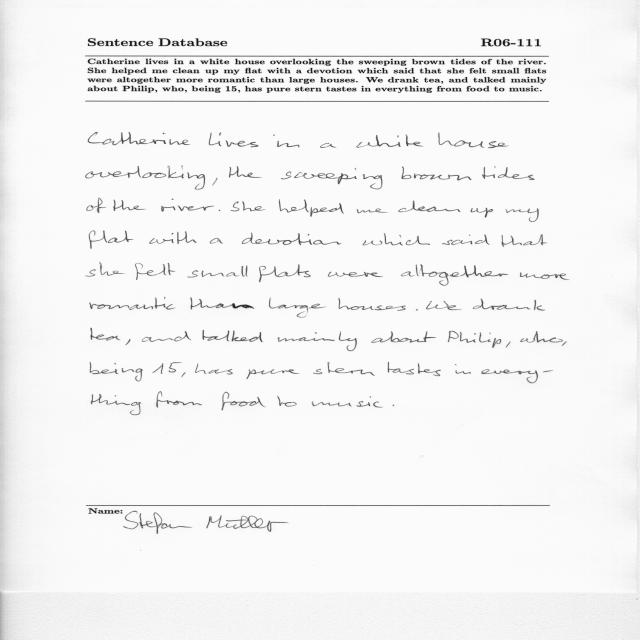word: (86, 166, 218, 190), (401, 264, 508, 286), (281, 168, 382, 189), (277, 332, 357, 352), (88, 133, 190, 146), (278, 199, 344, 217), (242, 233, 341, 245), (269, 298, 326, 318), (90, 297, 175, 310), (90, 362, 143, 382), (438, 133, 508, 148), (402, 166, 472, 181), (92, 394, 142, 415), (481, 369, 553, 383), (259, 265, 311, 283), (448, 331, 501, 348), (338, 298, 406, 311), (357, 135, 424, 148), (313, 362, 375, 376), (473, 299, 545, 311), (222, 392, 266, 411), (190, 297, 254, 310), (363, 234, 430, 246), (90, 231, 134, 249), (311, 397, 383, 408), (371, 331, 436, 343), (482, 166, 535, 180), (388, 362, 441, 376), (156, 392, 202, 408), (209, 133, 258, 148), (202, 330, 263, 342), (188, 266, 248, 278), (135, 263, 176, 280), (161, 199, 214, 212), (399, 201, 461, 212), (149, 231, 197, 244), (502, 234, 547, 247), (142, 331, 191, 342), (86, 263, 124, 277), (247, 369, 300, 379), (442, 234, 490, 245), (152, 363, 186, 378), (505, 208, 539, 222), (520, 331, 563, 342), (229, 166, 262, 178), (520, 272, 569, 280), (231, 201, 266, 212), (91, 328, 120, 341), (113, 200, 146, 211), (273, 135, 300, 148), (426, 301, 462, 310), (87, 198, 106, 213), (328, 272, 383, 277), (471, 208, 493, 218), (277, 396, 297, 407), (455, 364, 471, 374), (357, 209, 387, 214), (208, 369, 233, 375), (195, 363, 207, 374), (320, 143, 337, 148), (210, 238, 223, 244), (125, 339, 130, 345), (506, 341, 510, 348), (562, 342, 567, 347), (416, 309, 418, 311), (393, 405, 395, 406), (219, 210, 220, 211)
